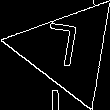L_S: (46, 22, 88, 77)
